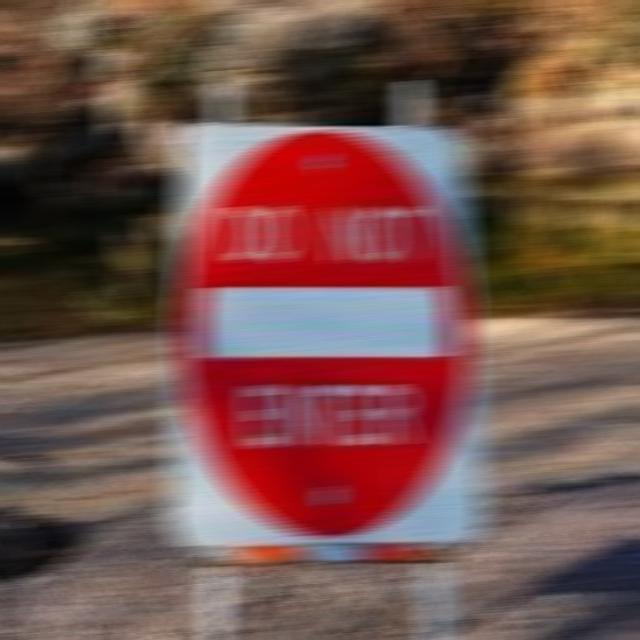doNotEnter: (171, 128, 477, 544)
